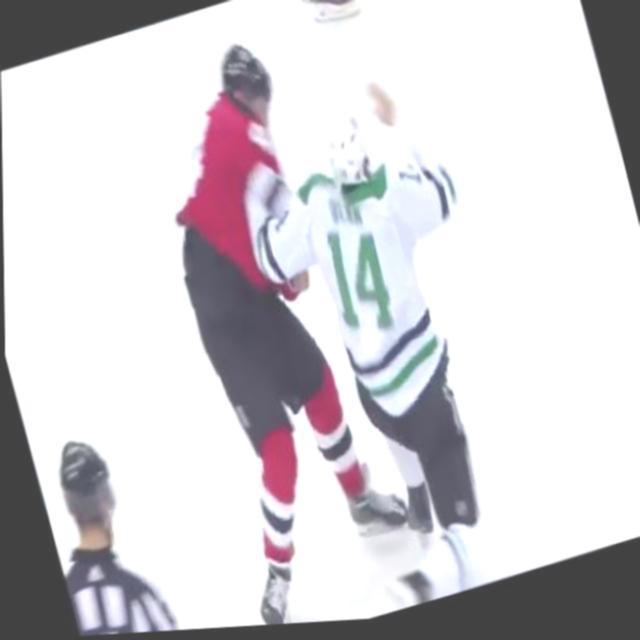fight: (118, 0, 558, 635)
